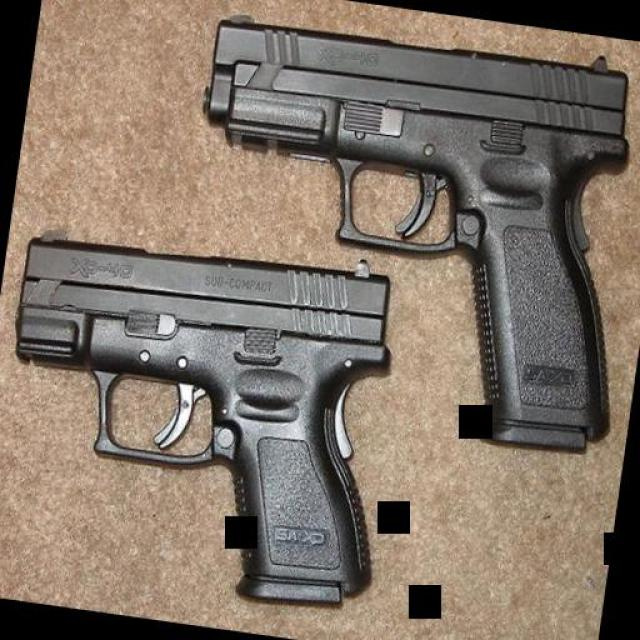gun: (162, 0, 640, 456), (0, 215, 412, 610)
